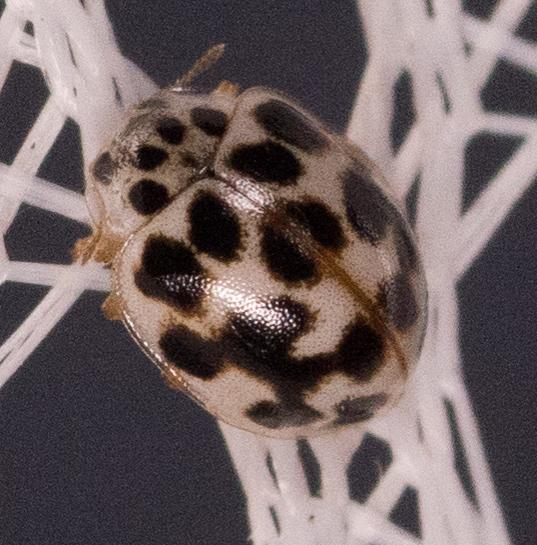ladybug: (70, 42, 434, 442)
